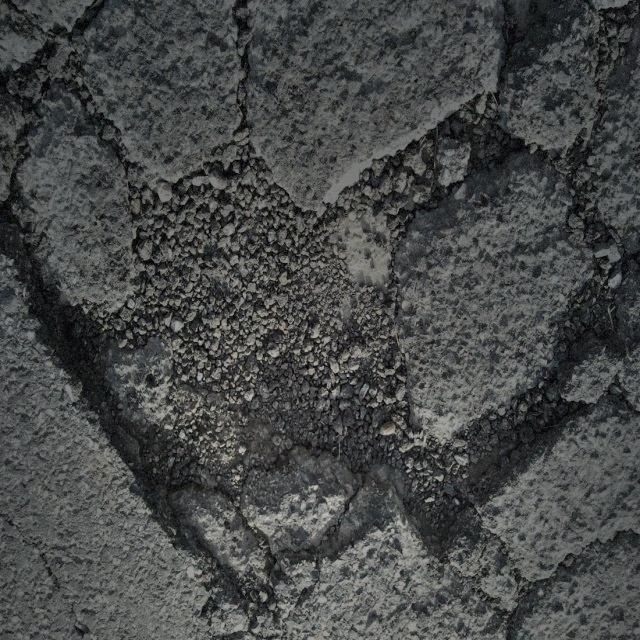pothole: (42, 99, 500, 570)
